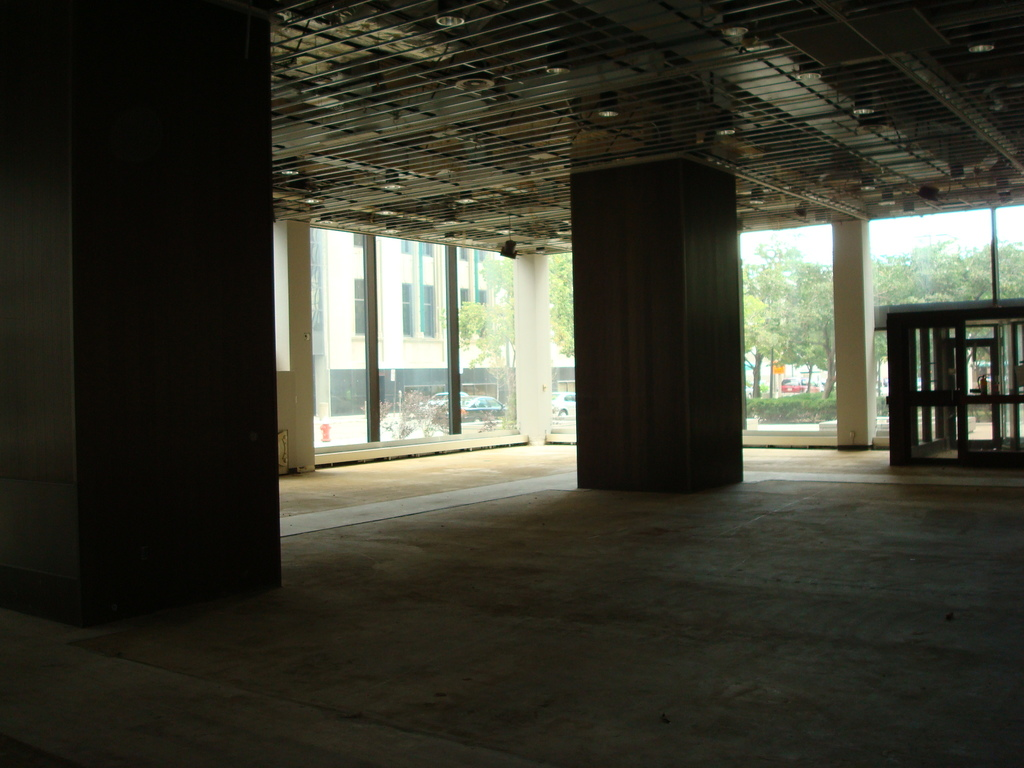Tree: (744, 235, 1023, 399), (456, 254, 577, 433)
